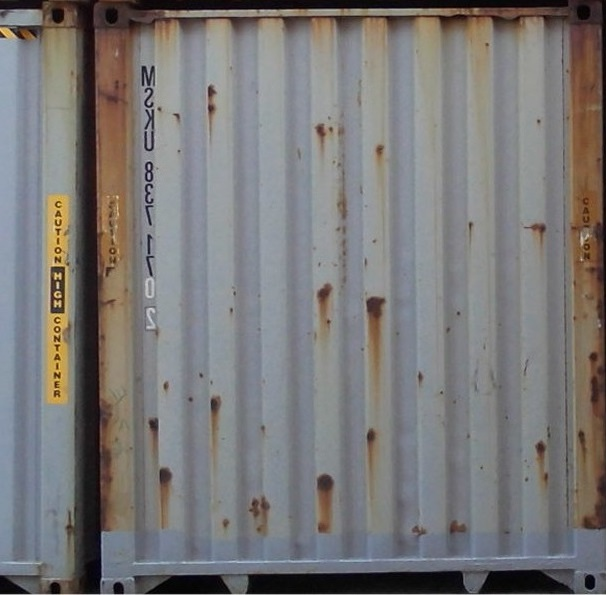container_no_door: (96, 1, 602, 593)
